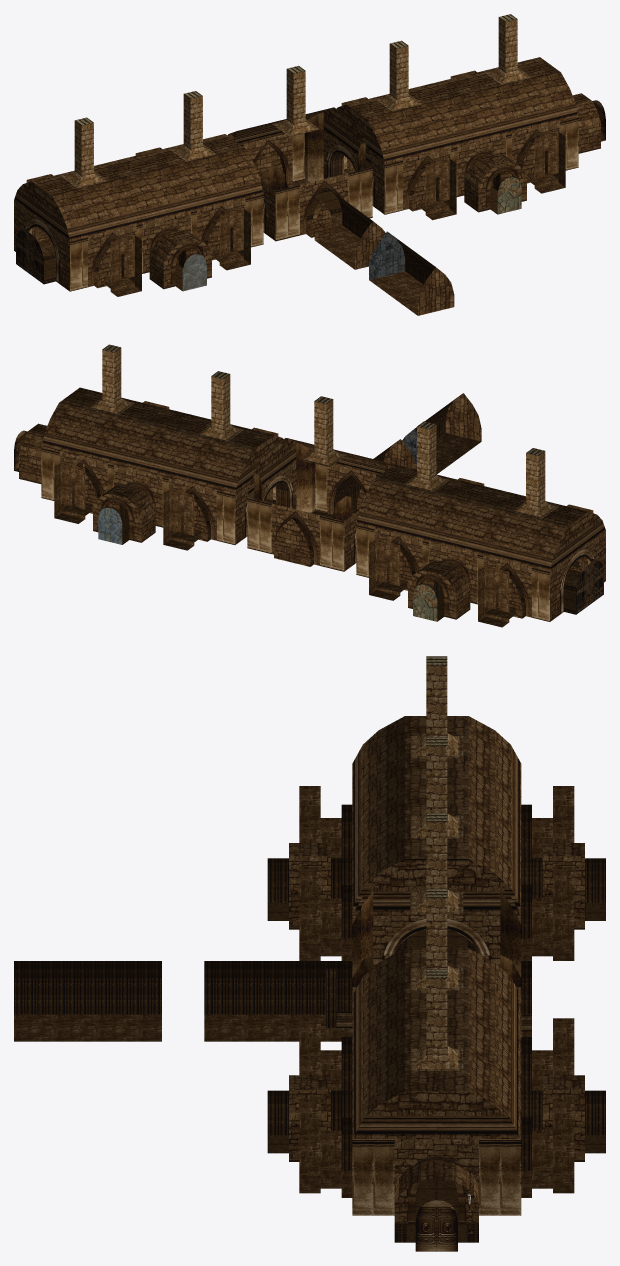
Rendered from Sepia_Hallway.obj.
The picture shows the model from 3 angles, top to bottom: view 1: azimuth 30°, elevation 25°; view 2: azimuth 150°, elevation 25°; view 3: azimuth 270°, elevation 25°; orthographic projection. The views are drawn at different scales.
Parts seen in each view (by area): view 1: Mesh; view 2: Mesh; view 3: Mesh.
Boxes of the visible parts, <box> form: Mesh: <box>14,14,605,315</box>; Mesh: <box>14,344,605,627</box>; Mesh: <box>14,656,605,1251</box>.
Bounding box in the file's own units: 3008 × 704 × 1792.
20 materials, 20 textured.
